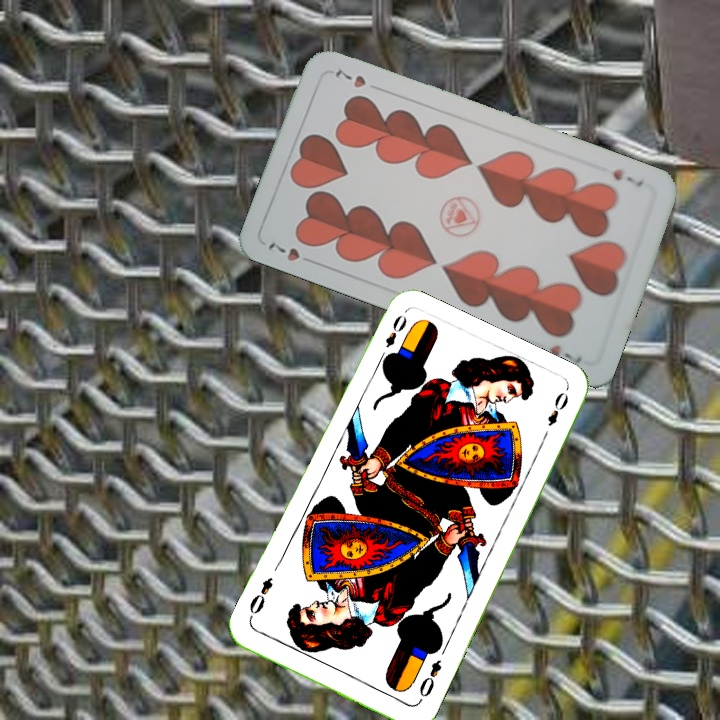EO: (415, 655, 444, 700), (381, 311, 410, 350)
H7: (264, 238, 319, 267), (608, 165, 646, 189)
